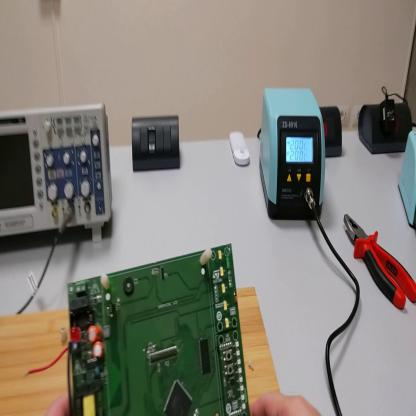hand: (251, 388, 323, 416), (50, 386, 75, 412)
low voltage board: (22, 243, 250, 416)
oscilloscope: (2, 103, 112, 245)
pliers: (343, 212, 415, 310)
socket: (358, 98, 412, 153), (320, 108, 343, 156)
welder base: (398, 130, 416, 228)
welder station: (261, 89, 324, 222)
working area: (3, 287, 286, 411)
